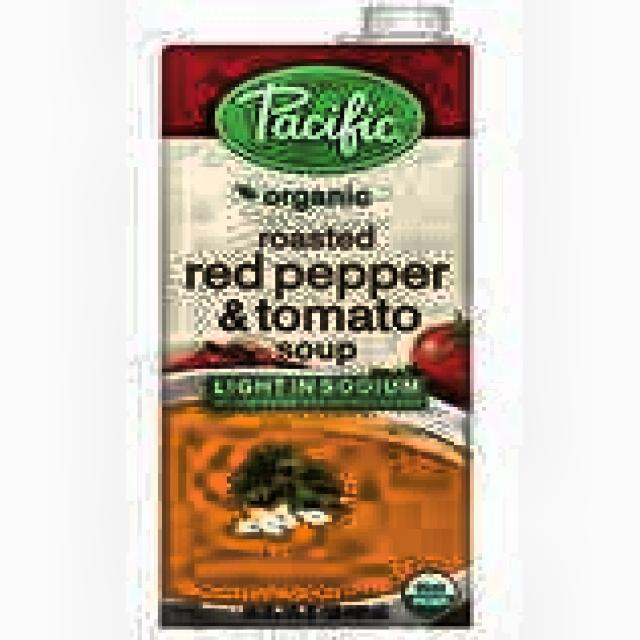cardboard: (158, 38, 470, 626)
